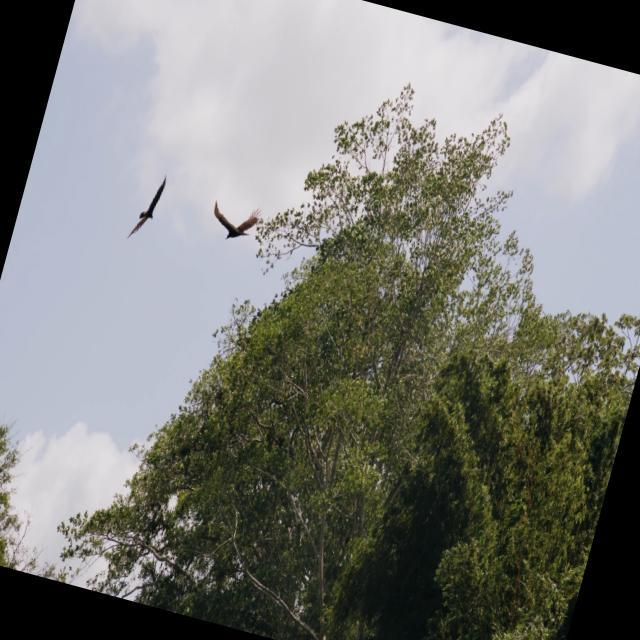bird: (126, 167, 169, 246), (206, 194, 265, 248)
